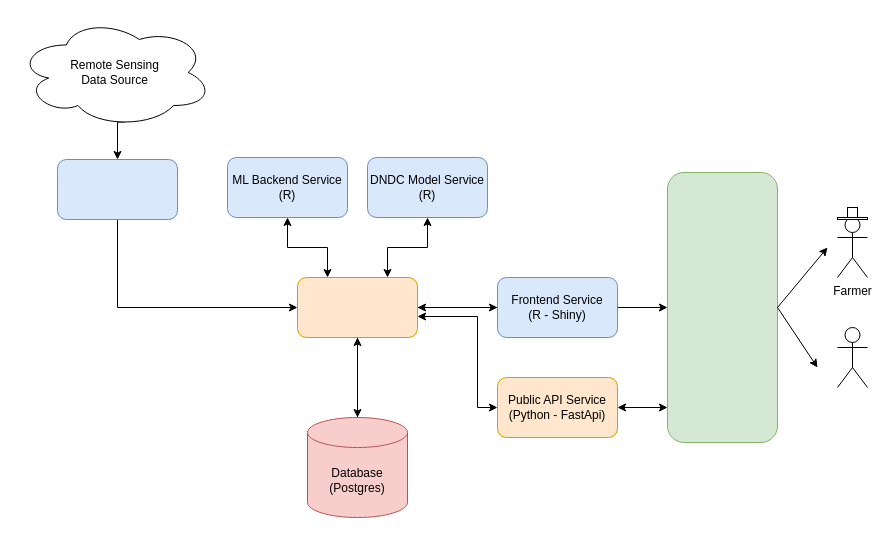
The diagram is 889 pixels wide and 535 high, and some of its shapes have lost their labels. The box of each missing label's shape, as (x1, y1, x2, y2) in pixels:
Analyst: (836, 326, 868, 388)
API Gateway Service NGINX: (666, 172, 778, 442)
Data Processing Service (R): (56, 158, 178, 220)
Private API Service (Python - FastApi): (296, 276, 418, 338)
